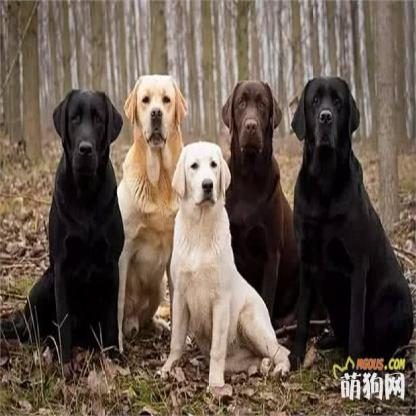Labarador Retriever: (280, 84, 413, 368), (152, 139, 288, 398), (0, 84, 125, 361), (95, 76, 188, 334), (220, 84, 300, 310)
